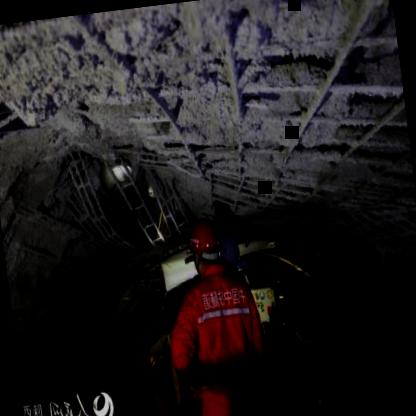helmet: (184, 214, 227, 276)
